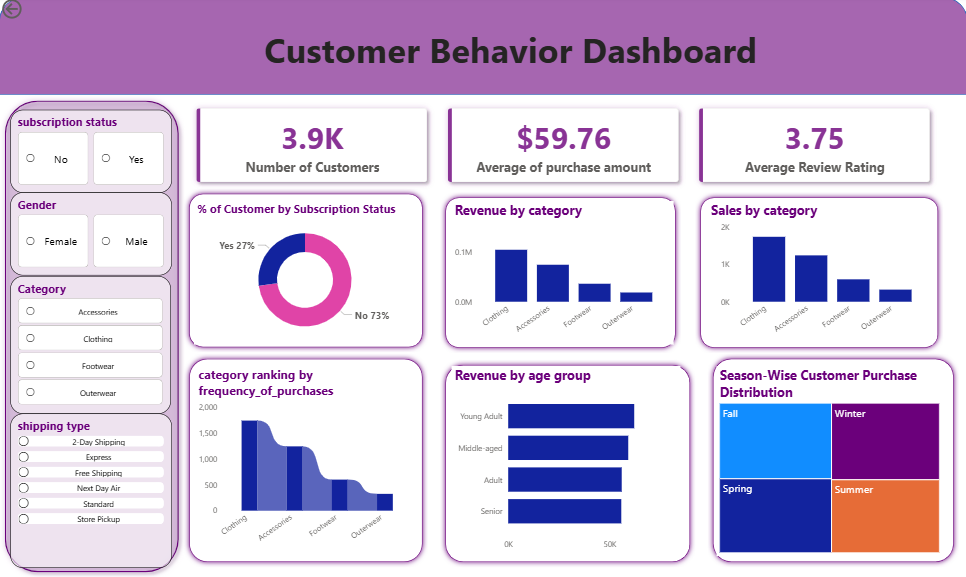

This screenshot's page, from the dashboard's own definition file:
{"tool":"powerbi","page":{"name":"Page 1","canvas":[1500,900],"ordinal":0},"visuals":[{"type":"cardVisual","fields":{"Data":["customer_behavior customer.Number of Customers","customer_behavior customer.Average of purchase amount","customer_behavior customer.Average Review Rating"]},"box":[276.8,145.2,1194.2,172.3],"z":0},{"type":"shape","box":[0,1.6,1500.3,151.2],"z":1000},{"type":"textbox","box":[212.3,40.2,1162.6,90.1],"z":2000},{"type":"shape","box":[287.3,299,377.5,253.9],"z":3000},{"type":"donutChart","title":"% of  Customer  by Subscription Status","fields":{"Category":["customer_behavior customer.subscription_status"],"Y":["CountNonNull(customer_behavior customer.customer_id)"]},"box":[302.3,317.4,344.1,222.2],"z":4000},{"type":"actionButton","box":[0,0,100,40],"z":5000},{"type":"shape","box":[683.2,304,372.5,248.9],"z":6000},{"type":"shape","box":[1077.4,304,384.2,248.9],"z":7000},{"type":"clusteredColumnChart","title":"Revenue by category","fields":{"Y":["Sum(customer_behavior customer.purchase_amount)"],"Category":["customer_behavior customer.category"]},"box":[699.9,317.4,344.1,222.2],"z":8000},{"type":"clusteredColumnChart","title":"Sales by category","fields":{"Category":["customer_behavior customer.category"],"Y":["CountNonNull(customer_behavior customer.customer_id)"]},"box":[1097.4,317.4,349.1,222.2],"z":9000},{"type":"shape","box":[0,152,287.3,748.3],"z":10000},{"type":"advancedSlicerVisual","title":"subscription status","fields":{"Values":["customer_behavior customer.subscription_status"]},"box":[16.7,175.4,250.6,128.6],"z":11000},{"type":"advancedSlicerVisual","title":"Gender","fields":{"Values":["customer_behavior customer.gender"]},"box":[18.4,304,250.6,128.6],"z":12000},{"type":"advancedSlicerVisual","title":"Category","fields":{"Values":["customer_behavior customer.category"]},"box":[18.4,432.6,248.9,213.8],"z":13000},{"type":"listSlicer","title":"shipping type","fields":{"Values":["customer_behavior customer.shipping_type"]},"box":[16.7,646.4,250.6,238.9],"z":14000},{"type":"shape","box":[683.2,563.2,394.8,321.3],"z":16000},{"type":"shape","box":[286.5,553.5,377.4,331],"z":17000},{"type":"ribbonChart","title":"category ranking by frequency_of_purchases","fields":{"Category":["customer_behavior customer.category"],"Y":["CountNonNull(customer_behavior customer.frequency_of_purchases)"]},"box":[303.9,572.9,342.6,294.2],"z":17001},{"type":"shape","box":[1097.4,553.5,389,331],"z":17002},{"type":"clusteredBarChart","title":"Revenue by age group","fields":{"Category":["customer_behavior customer.age_group"],"Y":["Sum(customer_behavior customer.purchase_amount)"]},"box":[700.6,572.9,354.2,294.2],"z":17003},{"type":"treemap","title":"Season-Wise Customer Purchase Distribution","fields":{"Group":["customer_behavior customer.season"],"Values":["Sum(customer_behavior customer.purchase_amount)"]},"box":[1111,572.9,350.3,294.2],"z":17004}]}

Visuals, with their boxes in screenshot pixels (x1, y1, x2, y2), scaled from the page's 1500x900 canvas onto the 966x577 screenshot:
cardVisual - customer_behavior customer.Number of Customers x customer_behavior customer.Average of purchase amount: [178, 93, 947, 204]
shape: [0, 1, 965, 98]
textbox: [137, 26, 885, 84]
shape: [185, 192, 428, 354]
"% of  Customer  by Subscription Status" donutChart: [195, 203, 416, 346]
actionButton: [0, 0, 64, 26]
shape: [440, 195, 680, 354]
shape: [694, 195, 941, 354]
"Revenue by category" clusteredColumnChart: [451, 203, 672, 346]
"Sales by category" clusteredColumnChart: [707, 203, 932, 346]
shape: [0, 97, 185, 576]
"subscription status" advancedSlicerVisual: [11, 112, 172, 195]
"Gender" advancedSlicerVisual: [12, 195, 173, 277]
"Category" advancedSlicerVisual: [12, 277, 172, 414]
"shipping type" listSlicer: [11, 414, 172, 568]
shape: [440, 361, 694, 567]
shape: [185, 355, 428, 567]
"category ranking by frequency_of_purchases" ribbonChart: [196, 367, 416, 556]
shape: [707, 355, 957, 567]
"Revenue by age group" clusteredBarChart: [451, 367, 679, 556]
"Season-Wise Customer Purchase Distribution" treemap: [715, 367, 941, 556]
